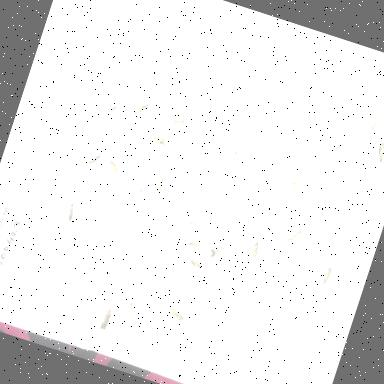pbw: (225, 144, 248, 176), (244, 236, 268, 266), (203, 238, 229, 264), (82, 144, 106, 172), (129, 94, 153, 122), (181, 249, 207, 274), (278, 224, 304, 249), (96, 303, 116, 335), (283, 176, 307, 202), (163, 304, 188, 328), (118, 296, 138, 326), (102, 96, 126, 120), (203, 144, 225, 170), (60, 198, 79, 227), (166, 110, 188, 134), (210, 109, 230, 134), (103, 156, 125, 178), (322, 137, 344, 159), (219, 126, 240, 149), (317, 262, 335, 288), (151, 168, 168, 195), (110, 206, 130, 228), (150, 131, 172, 151), (181, 236, 204, 255), (369, 138, 384, 166), (184, 212, 204, 232), (66, 218, 84, 240), (124, 180, 144, 197), (141, 184, 158, 201), (366, 111, 380, 131)
